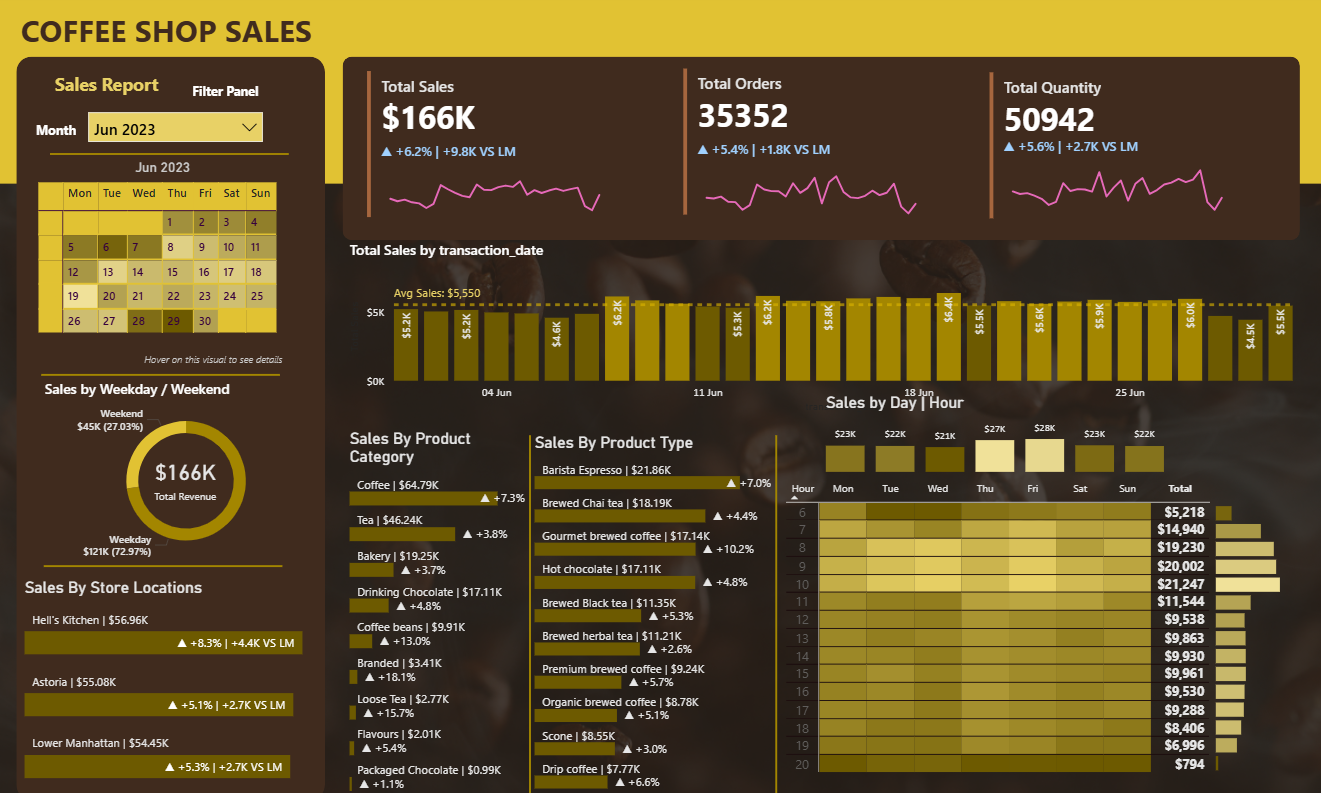

This screenshot's page, from the dashboard's own definition file:
{"tool":"powerbi","page":{"name":"Page 1","canvas":[1400,850],"ordinal":0},"visuals":[{"type":"shape","box":[0,0,1400,200],"z":0},{"type":"cardVisual","fields":{"Data":["Transactions.Total Orders"]},"box":[721.1,73.8,300.6,164.8],"z":0,"group":"g2"},{"type":"cardVisual","fields":{"Data":["Transactions.Total Sales"]},"box":[387.6,76.5,300.6,164.8],"z":0,"group":"g1"},{"type":"cardVisual","fields":{"Data":["Transactions.Total Quantity"]},"box":[1044,77.5,300.6,164.8],"z":0,"group":"g3"},{"type":"shape","box":[22.4,65.9,325.6,784.4],"z":1000},{"type":"lineChart","fields":{"Category":["Date Table.Date.Variation.Date Hierarchy.Year","Date Table.Date.Variation.Date Hierarchy.Quarter","Date Table.Date.Variation.Date Hierarchy.Month","Date Table.Date.Variation.Date Hierarchy.Day"],"Y":["Transactions.Total Quantity"]},"box":[1058.6,151.6,250.5,84.4],"z":1000,"group":"g3"},{"type":"lineChart","fields":{"Category":["Date Table.Date.Variation.Date Hierarchy.Year","Date Table.Date.Variation.Date Hierarchy.Quarter","Date Table.Date.Variation.Date Hierarchy.Month","Date Table.Date.Variation.Date Hierarchy.Day"],"Y":["Transactions.Total Orders"]},"box":[735.6,154.2,250.5,84.4],"z":1000,"group":"g2"},{"type":"lineChart","fields":{"Category":["Date Table.Date.Variation.Date Hierarchy.Year","Date Table.Date.Variation.Date Hierarchy.Quarter","Date Table.Date.Variation.Date Hierarchy.Month","Date Table.Date.Variation.Date Hierarchy.Day"],"Y":["Transactions.Total Sales"]},"box":[402.1,156.9,250.5,84.4],"z":1000,"group":"g1"},{"type":"shape","box":[366.5,65.9,1009.8,193.8],"z":2000},{"type":"textbox","box":[22.4,11.9,365.2,64.6],"z":3000},{"type":"slicer","fields":{"Values":["Date Table.Month Year"]},"box":[93.6,120,193.8,39.5],"z":4000},{"type":"group","id":"g1","title":"Group 1","box":[387.6,76.5,300.6,164.8],"z":5000},{"type":"group","id":"g2","title":"Group 1","box":[721.1,73.8,300.6,164.8],"z":6000},{"type":"group","id":"g3","title":"Group 1","box":[1044,77.5,300.6,164.8],"z":7000},{"type":"pivotTable","fields":{"Rows":["Date Table.Week Number"],"Columns":["Date Table.Day Name"],"Values":["Min(Date Table.Day Number)"]},"box":[40.9,193.8,274.2,176.6],"z":8000},{"type":"card","fields":{"Values":["Min(Date Table.Month Year)"]},"box":[130,170,93.3,26.7],"z":9000},{"type":"card","fields":{"Values":["Transactions.Foot Note"]},"box":[136.7,370,186.7,35],"z":10000},{"type":"donutChart","title":"Sales by Weekday / Weekend","fields":{"Category":["Date Table.Weekday / Weekend"],"Y":["Transactions.Total Sales"]},"box":[47.5,406,308.5,195.1],"z":11000},{"type":"card","fields":{"Values":["Transactions.Total Sales"]},"box":[147.6,475.9,106.8,69.9],"z":12000},{"type":"shape","box":[48.3,378.3,251.7,46.7],"z":13000},{"type":"shape","box":[51.7,580,251.7,46.7],"z":14000},{"type":"shape","box":[58,163.5,251.8,10.5],"z":15000},{"type":"clusteredBarChart","title":"Sales By Store Locations","fields":{"Y":["Transactions.Placeholder","Transactions.Total Sales"],"Category":["Transactions.store_location"]},"box":[26.7,615,330,220],"z":16000},{"type":"clusteredColumnChart","fields":{"Y":["Transactions.Total Sales"],"Category":["Transactions.transaction_date"]},"box":[368.6,260,1008.6,187.1],"z":17000},{"type":"clusteredBarChart","title":"Sales By Product Category","fields":{"Y":["Transactions.Placeholder","Transactions.Total Sales"],"Category":["Transactions.product_category"]},"box":[369.1,458.7,195.1,387.6],"z":18000},{"type":"clusteredBarChart","title":"Sales By Product Type","fields":{"Y":["Transactions.Placeholder","Transactions.Total Sales"],"Category":["Transactions.product_type"]},"box":[564.2,462.7,259.7,381],"z":19000},{"type":"pivotTable","fields":{"Rows":["Transactions.Hour"],"Columns":["Date Table.Day Name"],"Values":["Transactions.Total Sales"]},"box":[834,514.1,448.2,321.7],"z":20000},{"type":"barChart","fields":{"Category":["Transactions.Hour"],"Y":["Transactions.Total Sales"]},"box":[1282.7,527.3,105.5,296.6],"z":21000},{"type":"shape","box":[548.4,465.3,31.6,384.9],"z":22000},{"type":"shape","box":[797.5,465.3,52.7,384.9],"z":23000},{"type":"columnChart","title":"Sales by Day | Hour","fields":{"Y":["Transactions.Total Sales"],"Category":["Date Table.Day Name"]},"box":[871.4,420.5,367.8,89.6],"z":24000},{"type":"textbox","box":[38.2,129.2,77.8,34.3],"z":25000},{"type":"textbox","box":[58,77.8,229.4,42.2],"z":26000},{"type":"textbox","box":[203,88.3,97.6,31.6],"z":27000}]}

Visuals, with their boxes in screenshot pixels (x1, y1, x2, y2), scaled from the page's 1400x850 canvas onto the 1321x793 screenshot:
shape: box(0, 0, 1320, 187)
cardVisual - Transactions.Total Orders: box(680, 69, 964, 223)
cardVisual - Transactions.Total Sales: box(366, 71, 649, 225)
cardVisual - Transactions.Total Quantity: box(985, 72, 1269, 226)
shape: box(21, 61, 328, 792)
lineChart - Date Table.Date.Variation.Date Hierarchy.Year x Date Table.Date.Variation.Date Hierarchy.Quarter: box(999, 141, 1235, 220)
lineChart - Date Table.Date.Variation.Date Hierarchy.Year x Date Table.Date.Variation.Date Hierarchy.Quarter: box(694, 144, 930, 223)
lineChart - Date Table.Date.Variation.Date Hierarchy.Year x Date Table.Date.Variation.Date Hierarchy.Quarter: box(379, 146, 616, 225)
shape: box(346, 61, 1299, 242)
textbox: box(21, 11, 366, 71)
slicer - Date Table.Month Year: box(88, 112, 271, 149)
"Group 1" group: box(366, 71, 649, 225)
"Group 1" group: box(680, 69, 964, 223)
"Group 1" group: box(985, 72, 1269, 226)
pivotTable - Date Table.Week Number x Date Table.Day Name: box(39, 181, 297, 346)
card - Min(Date Table.Month Year): box(123, 159, 211, 184)
card - Transactions.Foot Note: box(129, 345, 305, 378)
"Sales by Weekday / Weekend" donutChart: box(45, 379, 336, 561)
card - Transactions.Total Sales: box(139, 444, 240, 509)
shape: box(46, 353, 283, 396)
shape: box(49, 541, 286, 585)
shape: box(55, 153, 292, 162)
"Sales By Store Locations" clusteredBarChart: box(25, 574, 337, 779)
clusteredColumnChart - Transactions.Total Sales x Transactions.transaction_date: box(348, 243, 1299, 417)
"Sales By Product Category" clusteredBarChart: box(348, 428, 532, 790)
"Sales By Product Type" clusteredBarChart: box(532, 432, 777, 787)
pivotTable - Transactions.Hour x Date Table.Day Name: box(787, 480, 1210, 780)
barChart - Transactions.Hour x Transactions.Total Sales: box(1210, 492, 1310, 769)
shape: box(517, 434, 547, 792)
shape: box(752, 434, 802, 792)
"Sales by Day | Hour" columnChart: box(822, 392, 1169, 476)
textbox: box(36, 121, 109, 153)
textbox: box(55, 73, 271, 112)
textbox: box(192, 82, 284, 112)
